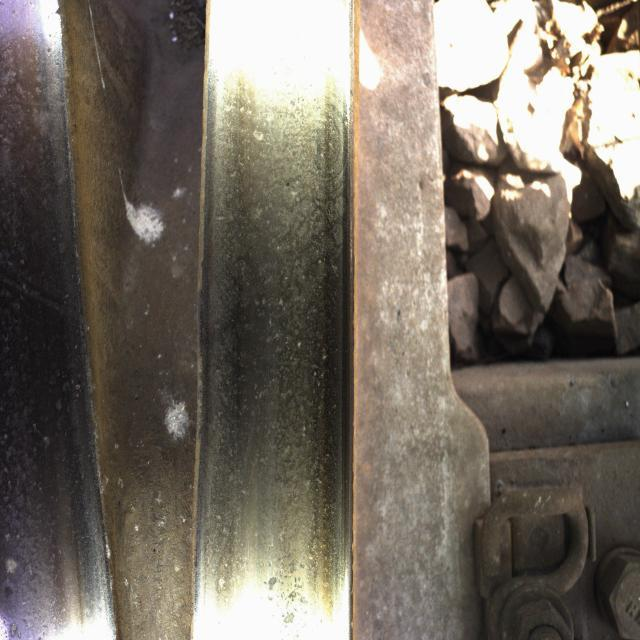scar: (210, 68, 339, 598)
